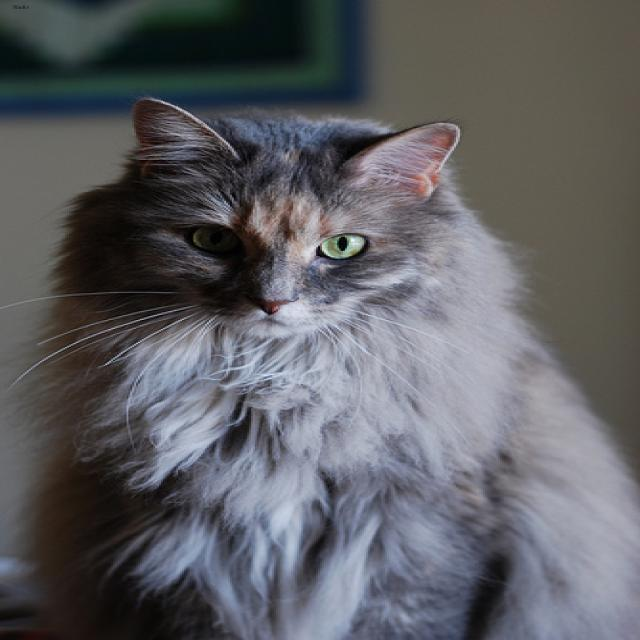Maine_Coon: (130, 96, 458, 335)
